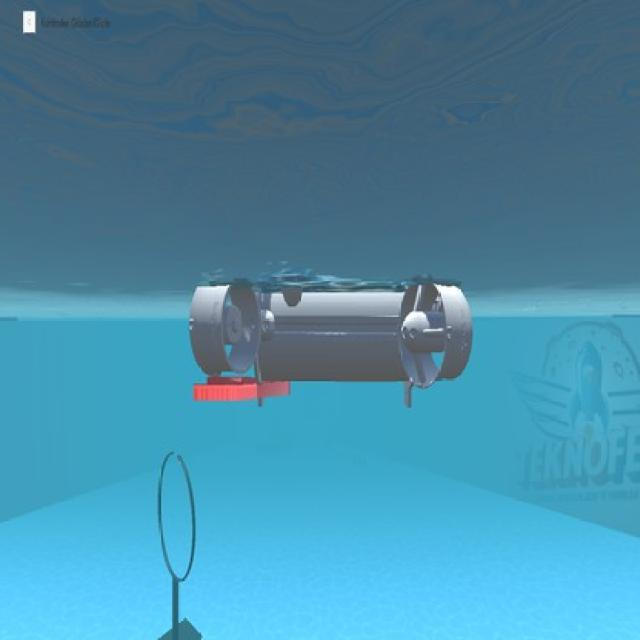Circle: (157, 450, 198, 582)
